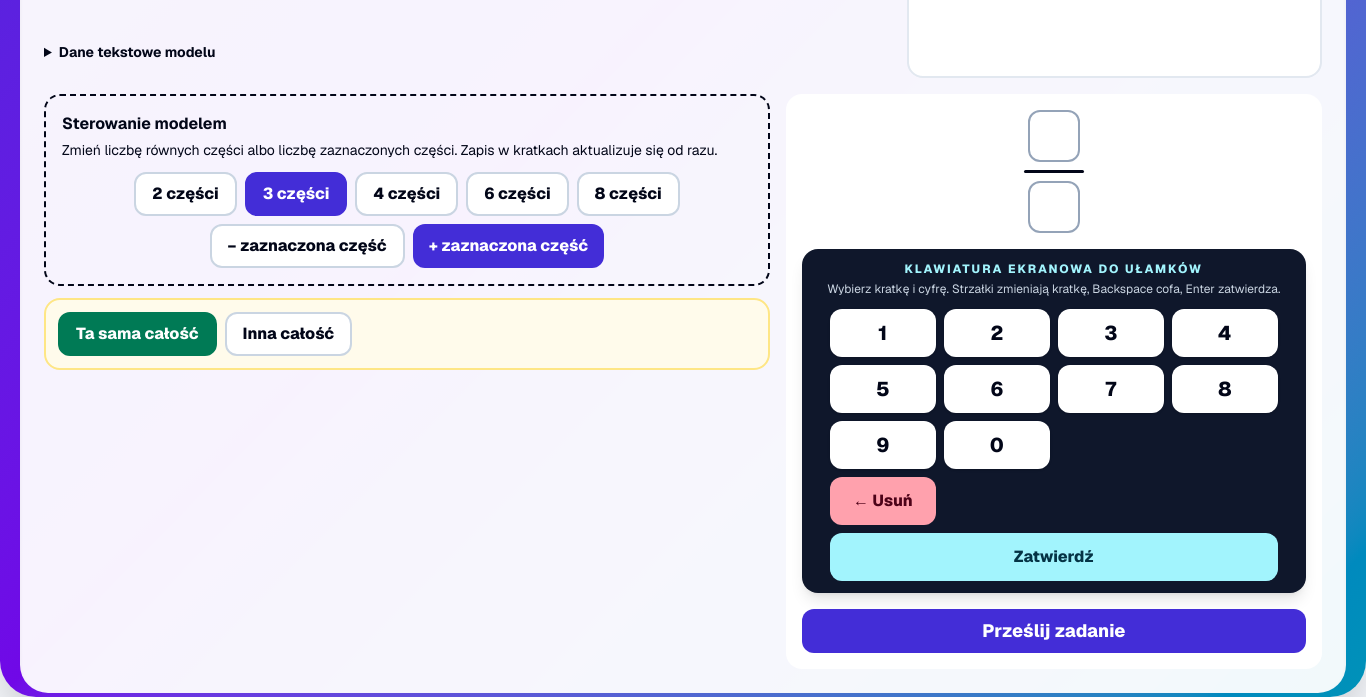
Test: FractionLessonL1Model — klawiatura, dotyk i diagnostyka › diagnozuje użycie innej całości w samodzielnej próbie
(page scrolled)
What coordinates should you click on to do the following:
click the button "Inna całość"
I would click on:
 (288, 334)
Its box is x1=224 y1=312 x2=352 y2=356.
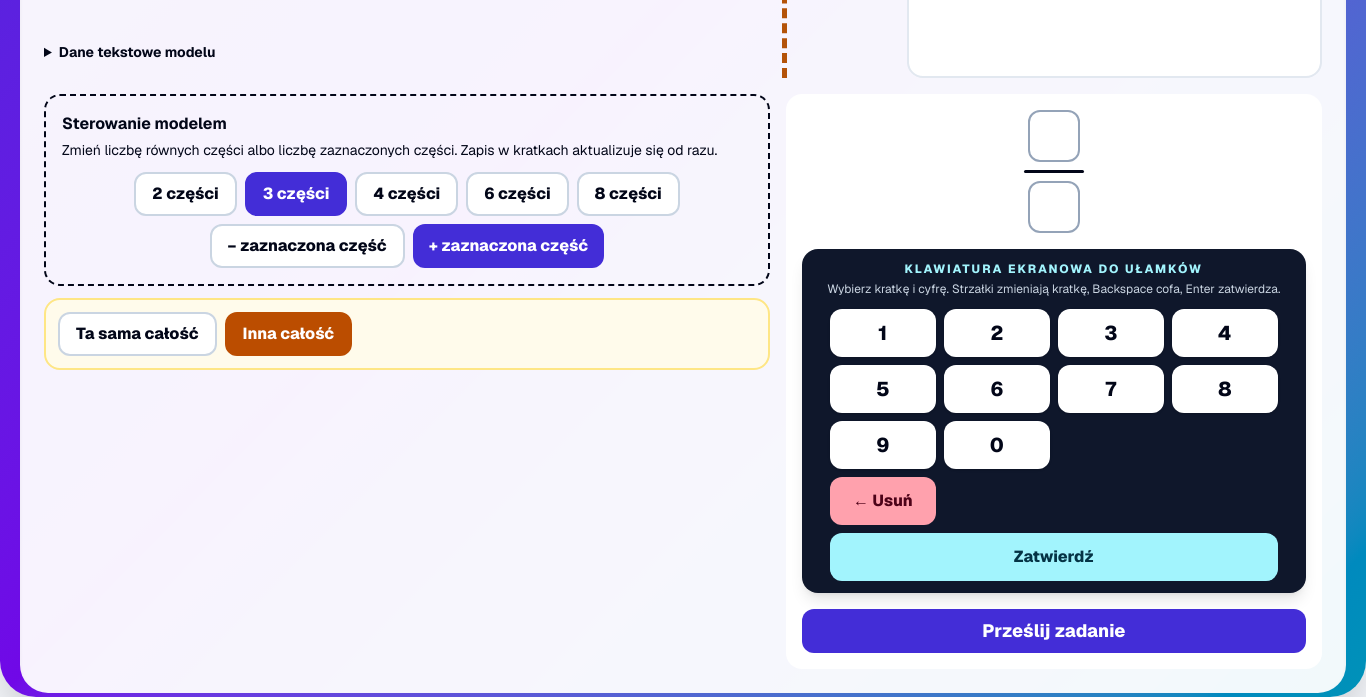
What coordinates should you click on to do the following:
click the button "Prześlij zadanie"
I would click on:
 (1054, 631)
Its box is x1=802 y1=609 x2=1306 y2=653.
(page scrolled)
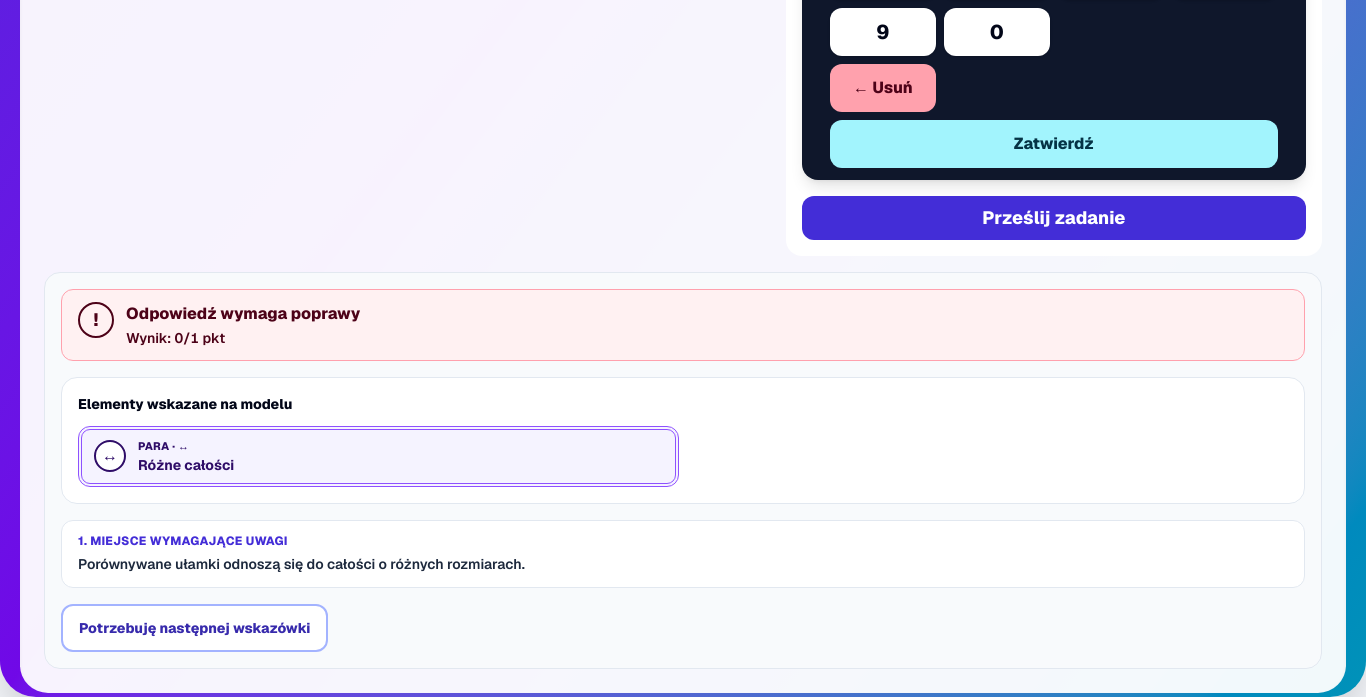
Expected: the text "Porównywane ułamki odnoszą się do całości o różnych rozmiarach." is shown, x1=78 y1=555 x2=525 y2=573
